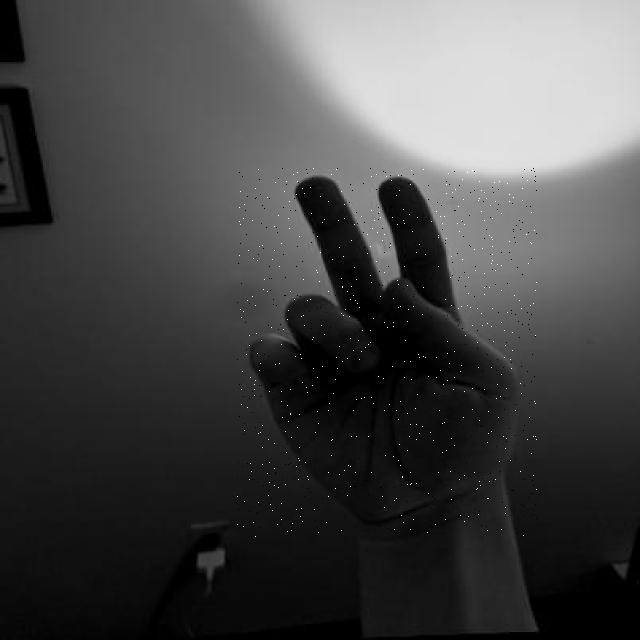K: (237, 168, 537, 537)
